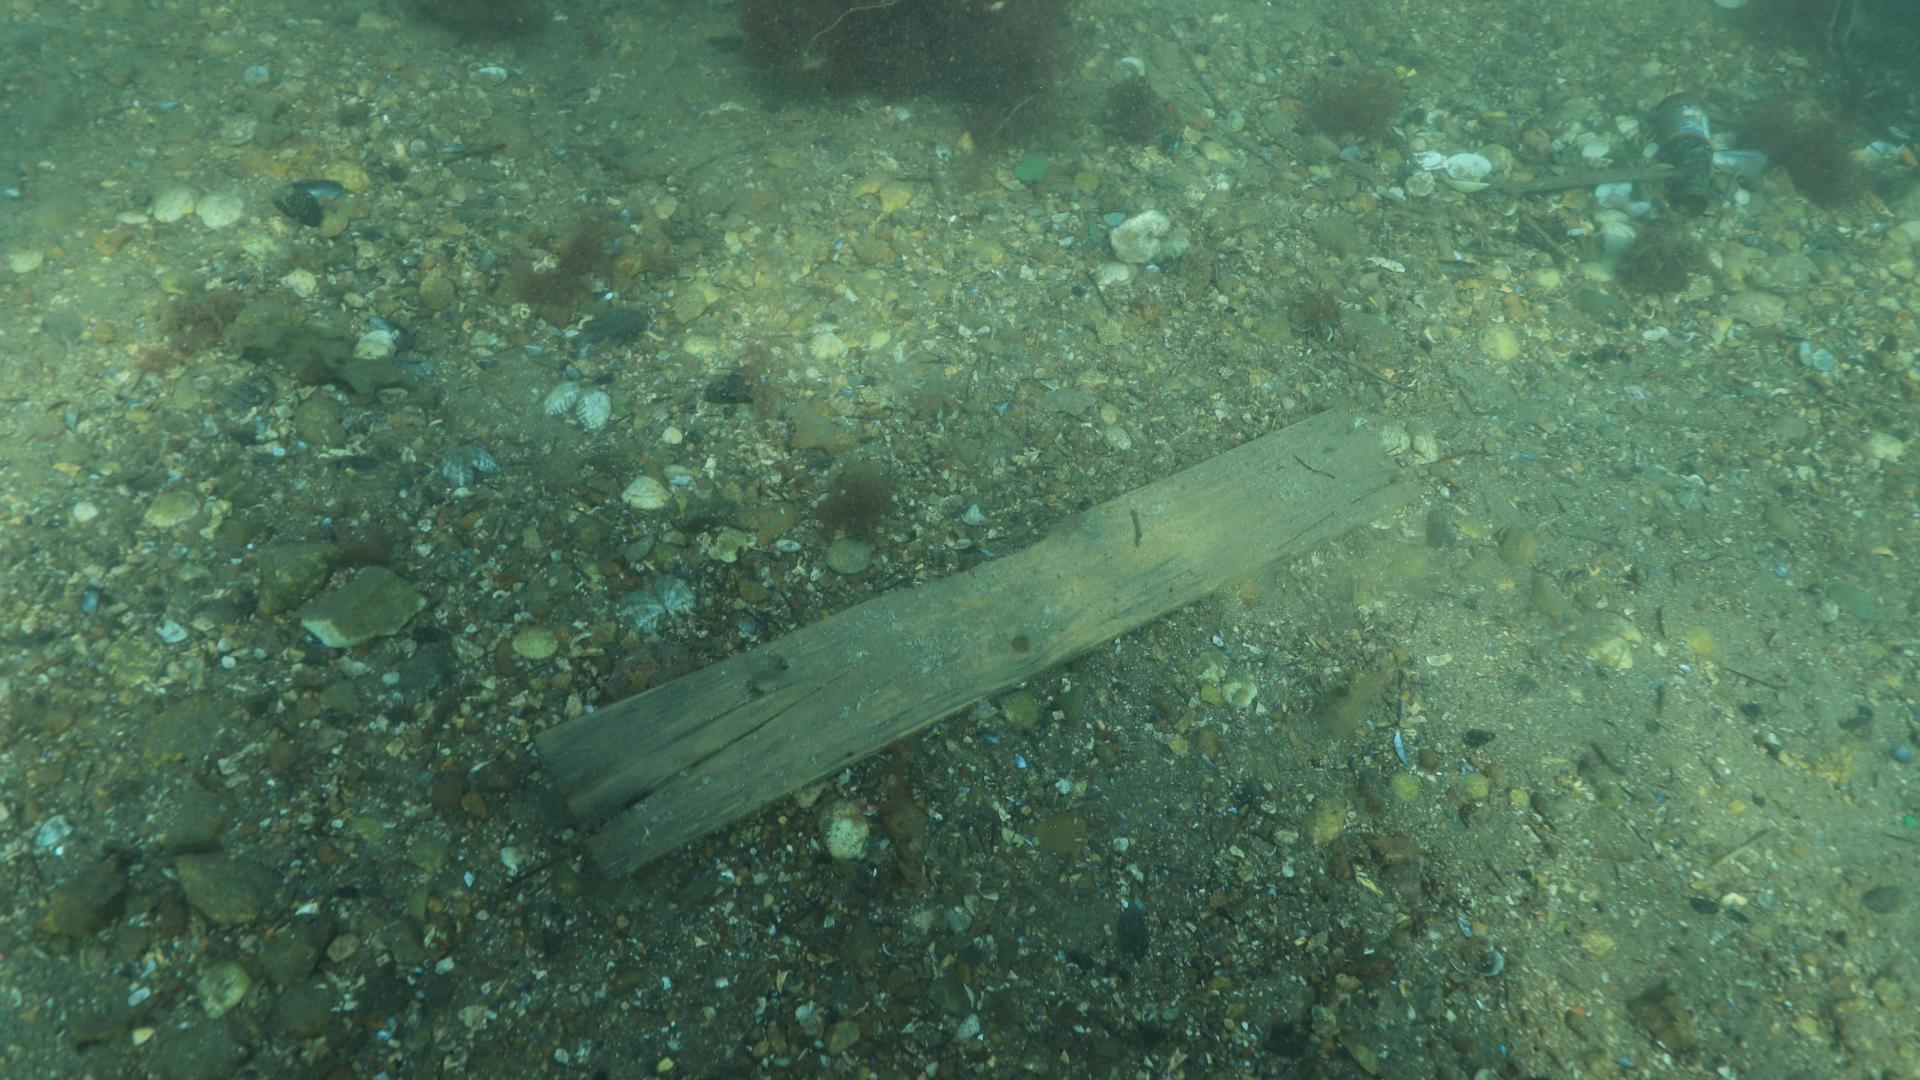wood: (527, 404, 1419, 878)
